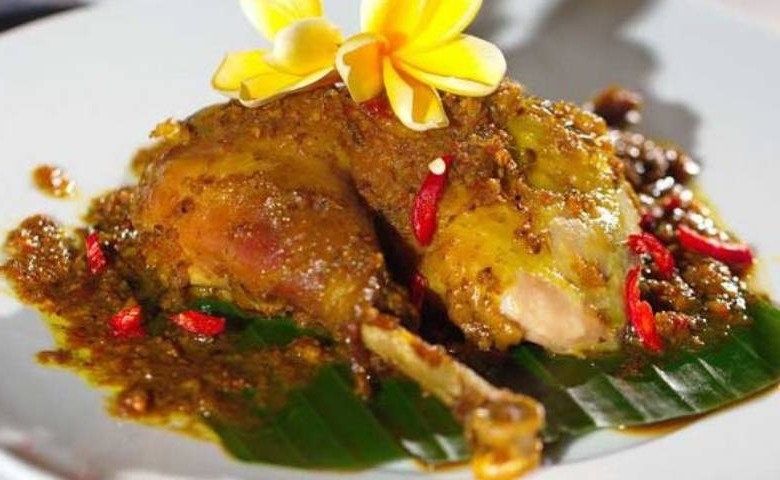ayam_betutu: (135, 131, 643, 480)
